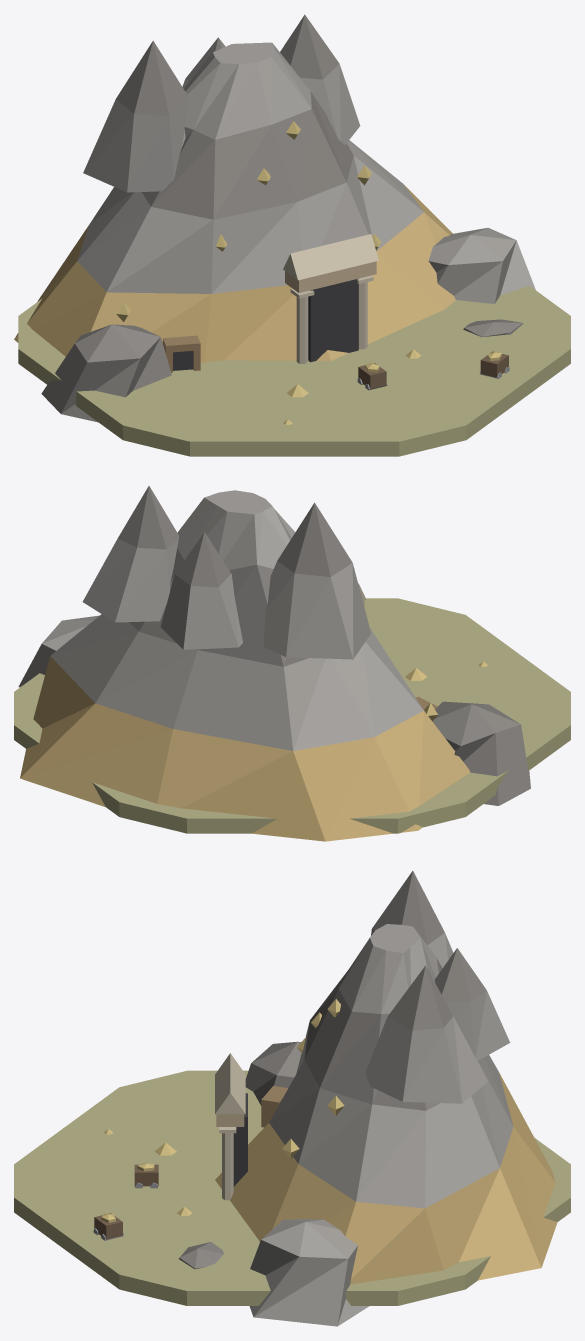
Rendered from king-solomon-s-mines.glb.
The picture shows the model from 3 angles, top to bottom: view 1: azimuth 30°, elevation 25°; view 2: azimuth 150°, elevation 25°; view 3: azimuth 270°, elevation 25°; orthographic projection.
Visible parts, largest first — view 1: LOD0; view 2: LOD0; view 3: LOD0.
Part boxes in pixels (x1=…): LOD0: x1=14, y1=14, x2=570, y2=456; LOD0: x1=14, y1=486, x2=570, y2=841; LOD0: x1=14, y1=871, x2=570, y2=1326.
Size of what is drawn, in the model's own units: 1.78 by 1.02 by 1.76.
